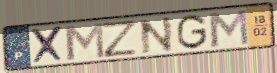G: (176, 13, 209, 51)
M: (61, 21, 107, 62), (206, 8, 251, 49)
N: (137, 15, 175, 55)
X: (30, 24, 67, 66)
Z: (100, 18, 139, 59)
